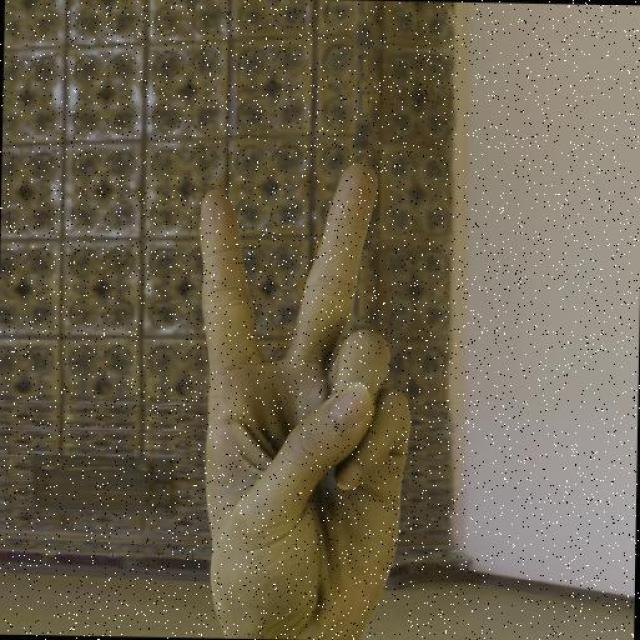V: (189, 157, 423, 640)
